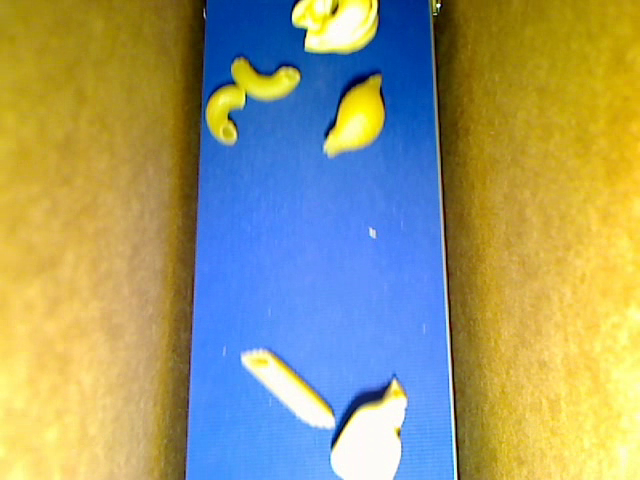elbow: (230, 56, 301, 102), (205, 83, 245, 145)
penne: (239, 346, 336, 431)
shell: (320, 73, 387, 158)
tortellini: (330, 375, 407, 479), (291, 1, 378, 56)
